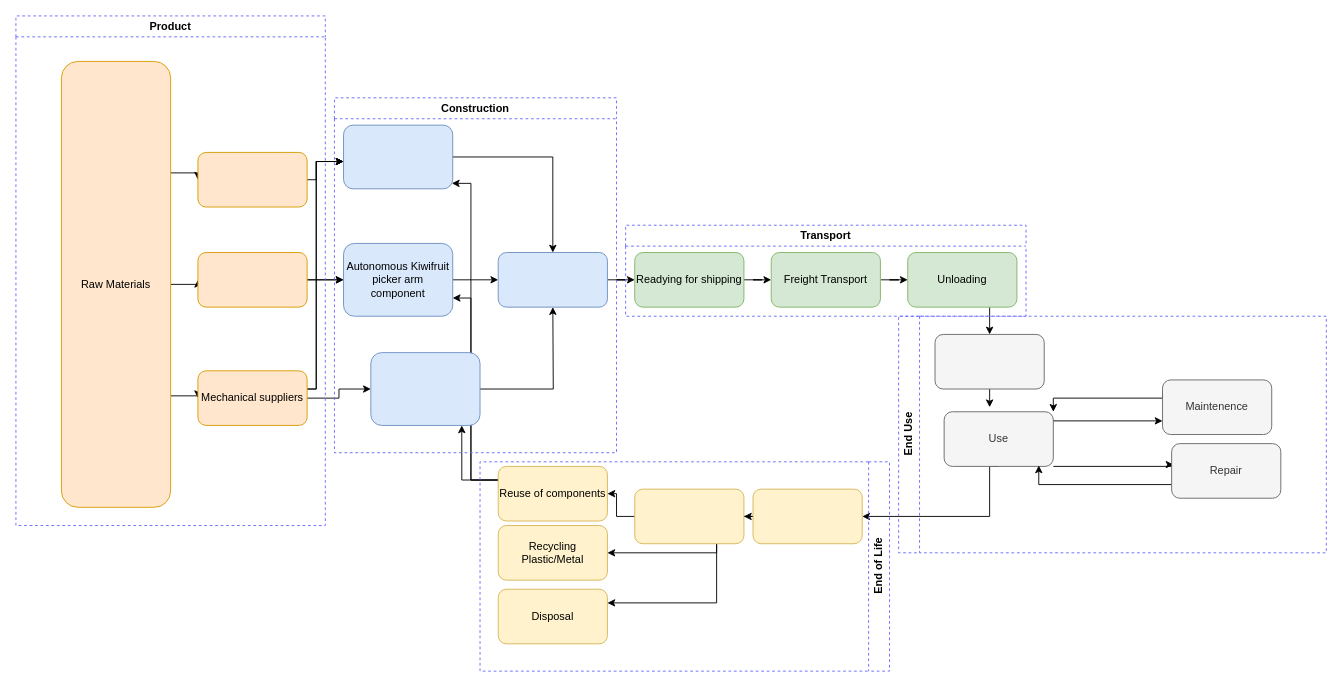
Image size: 1342x687. Some labels were removed from this diagram. Here are the shapes that lost their labels. From the top down, the centre of each, then its label:
(398,156): Modular Base Platform
(252,179): Electrical Suppliers
(252,279): Metal Suppliers
(552,279): Complete system
(989,361): Onsite setup by contractor/employee
(425,388): Kiwifruit pollinator component
(689,516): Disassembly
(807,516): Freight back to RP
